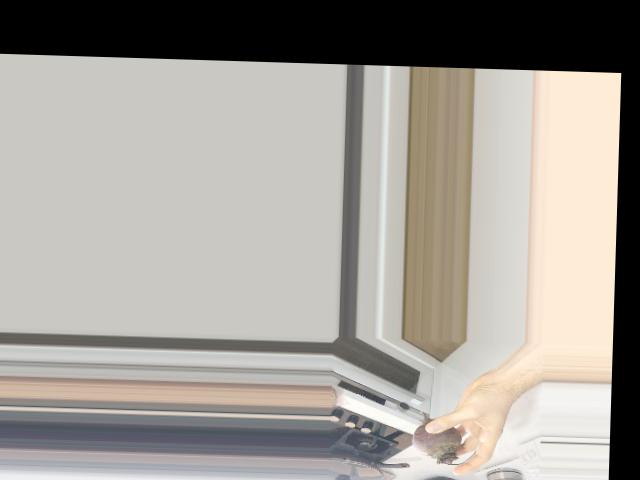beet: (411, 410, 475, 465)
